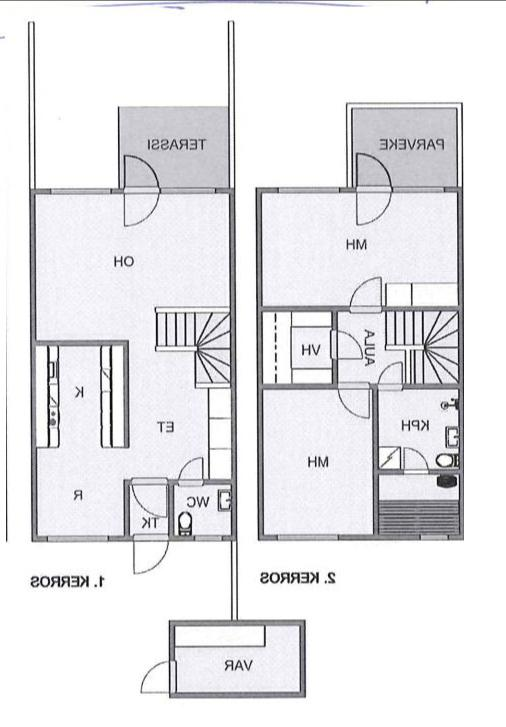door: (129, 530, 168, 578), (130, 473, 170, 519), (121, 188, 163, 230), (121, 152, 162, 194), (355, 151, 394, 191), (352, 188, 394, 225), (335, 382, 372, 422), (137, 660, 179, 694), (346, 276, 386, 309), (331, 327, 364, 365), (176, 454, 206, 487), (402, 442, 428, 476), (378, 358, 404, 390)
window: (46, 182, 118, 198), (42, 531, 114, 546), (270, 181, 346, 194), (271, 530, 348, 541), (416, 530, 453, 544)
